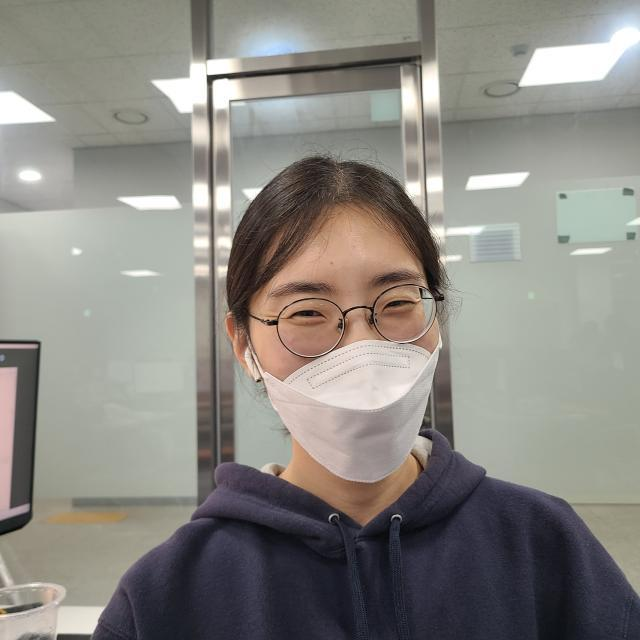earphone: (234, 336, 275, 399)
